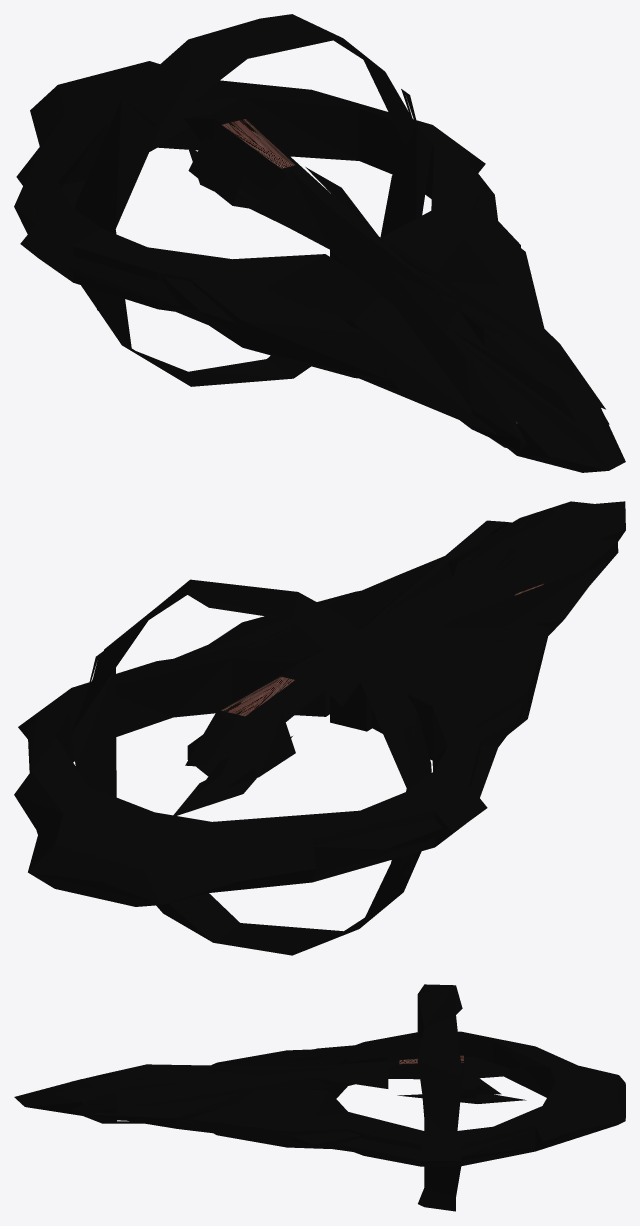
3 renders of one model, top to bottom at view 1: azimuth 30°, elevation 25°; view 2: azimuth 150°, elevation 25°; view 3: azimuth 270°, elevation 25°, orthographic. The views are drawn at different scales.
Visible parts, largest first — view 1: Dkyr_Class_D`kyr_diffuse_1_0; view 2: Dkyr_Class_D`kyr_diffuse_1_0; view 3: Dkyr_Class_D`kyr_diffuse_1_0.
Boxes of the visible parts, bbox=[...] form: Dkyr_Class_D`kyr_diffuse_1_0: bbox=[14, 14, 625, 472]; Dkyr_Class_D`kyr_diffuse_1_0: bbox=[14, 501, 625, 955]; Dkyr_Class_D`kyr_diffuse_1_0: bbox=[14, 984, 625, 1211].
Size of the model in its own units: 354 by 265 by 738.
1 material, 1 textured.
